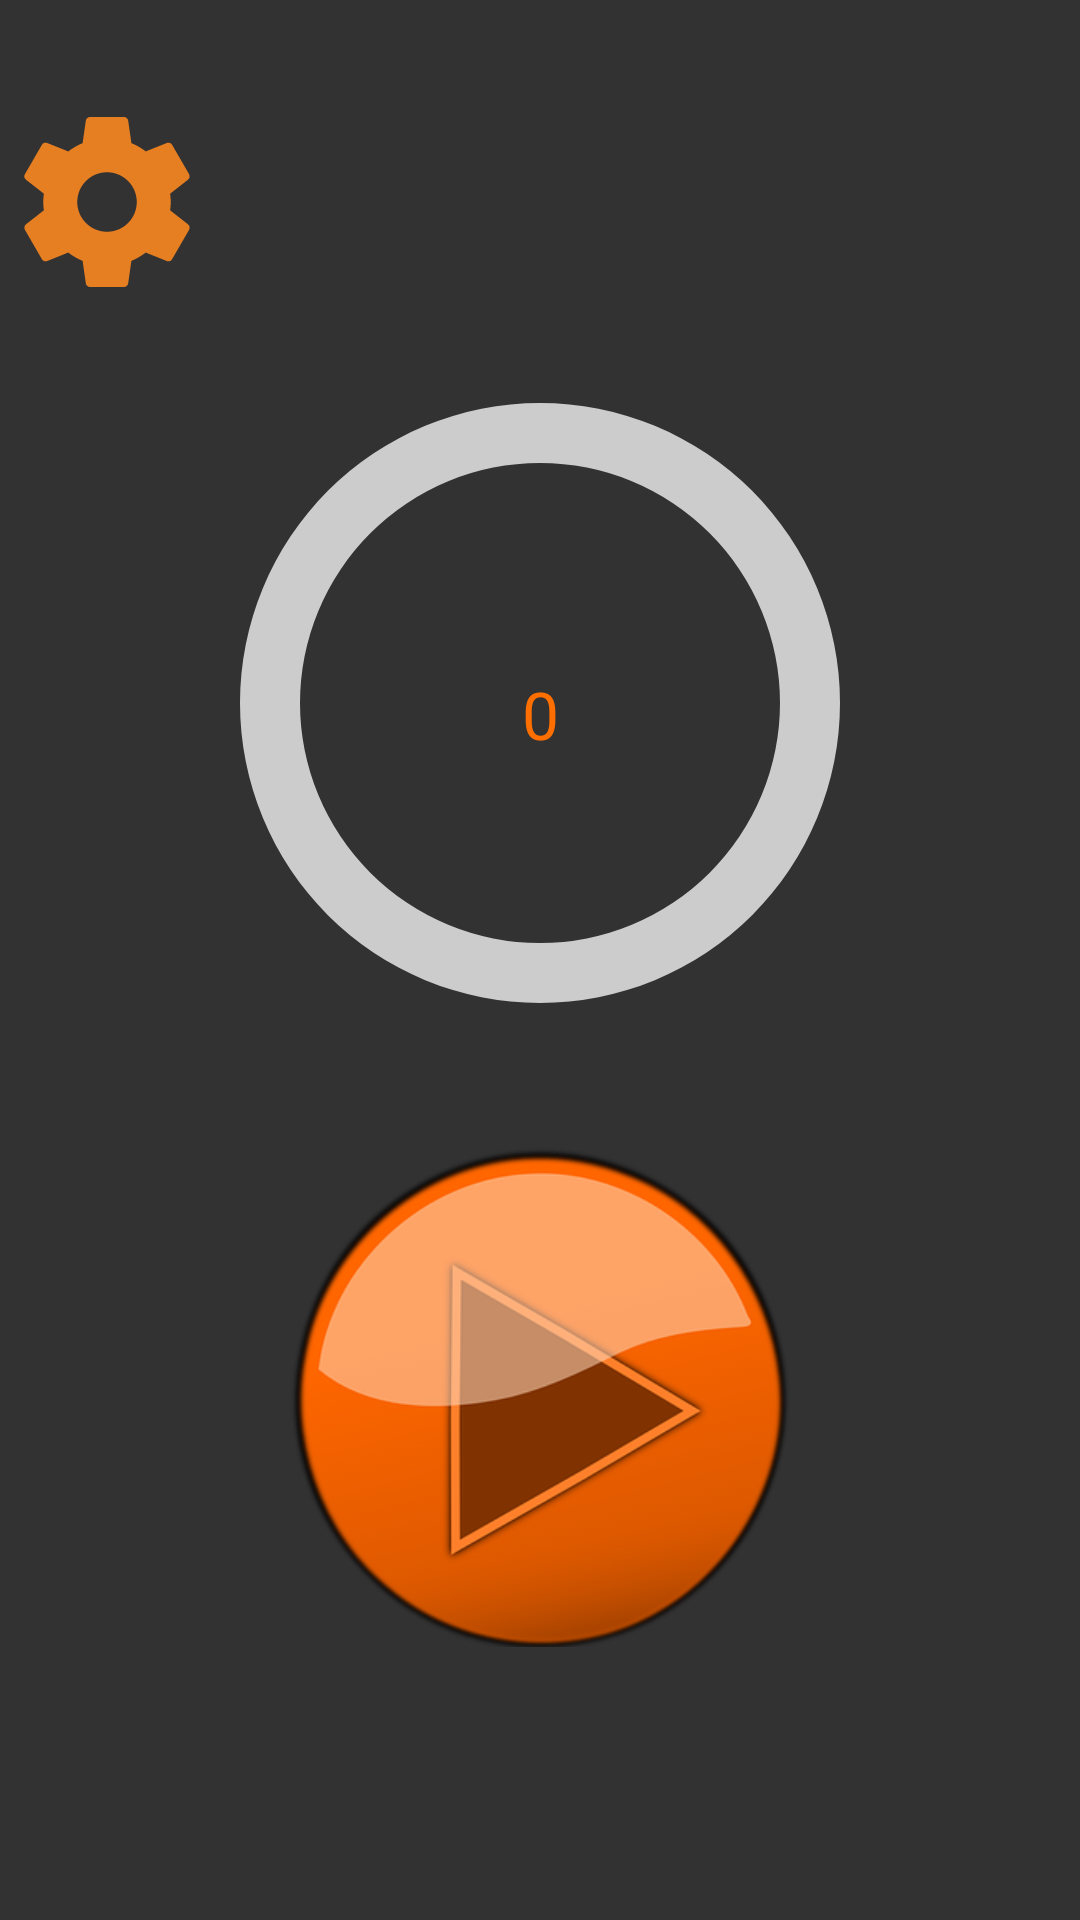

Icons on this 1080px×1920px Android screen, each with the point to tap as (x,y):
settings: (107,202)
